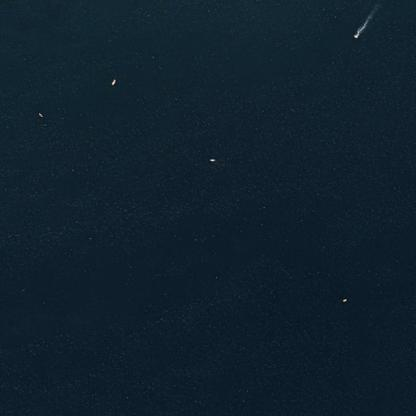ship: (344, 26, 366, 44), (333, 292, 354, 306), (103, 74, 122, 89), (32, 107, 48, 124), (205, 150, 219, 168)
